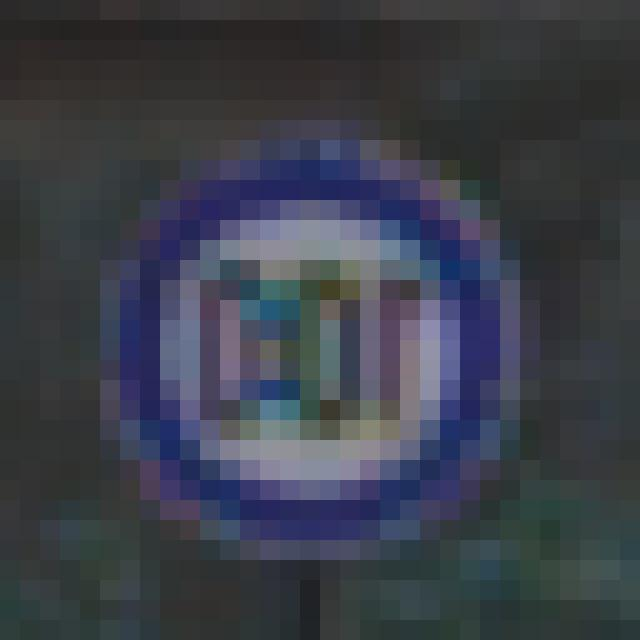SPEED LIMIT 100: (91, 138, 531, 550)
